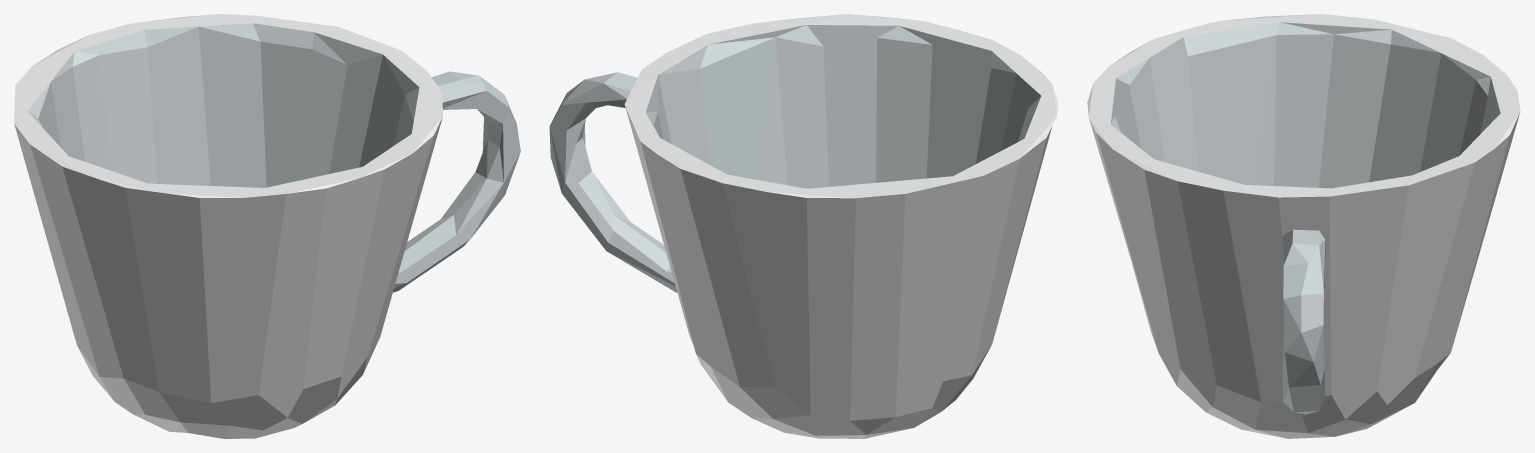
File: Cup02White.fbx
3 views of the same model, side by side, from view 1: azimuth 30°, elevation 25°; view 2: azimuth 150°, elevation 25°; view 3: azimuth 270°, elevation 25° (orthographic).
Visible parts, largest first — view 1: Cup02LowPolyWhite; view 2: Cup02LowPolyWhite; view 3: Cup02LowPolyWhite.
Part boxes in pixels (x1,y1,x2,y2): Cup02LowPolyWhite: (14, 14, 520, 438); Cup02LowPolyWhite: (549, 14, 1058, 438); Cup02LowPolyWhite: (1087, 14, 1520, 438).
Bounding box in the file's own units: 11.37 × 6.93 × 8.98.
